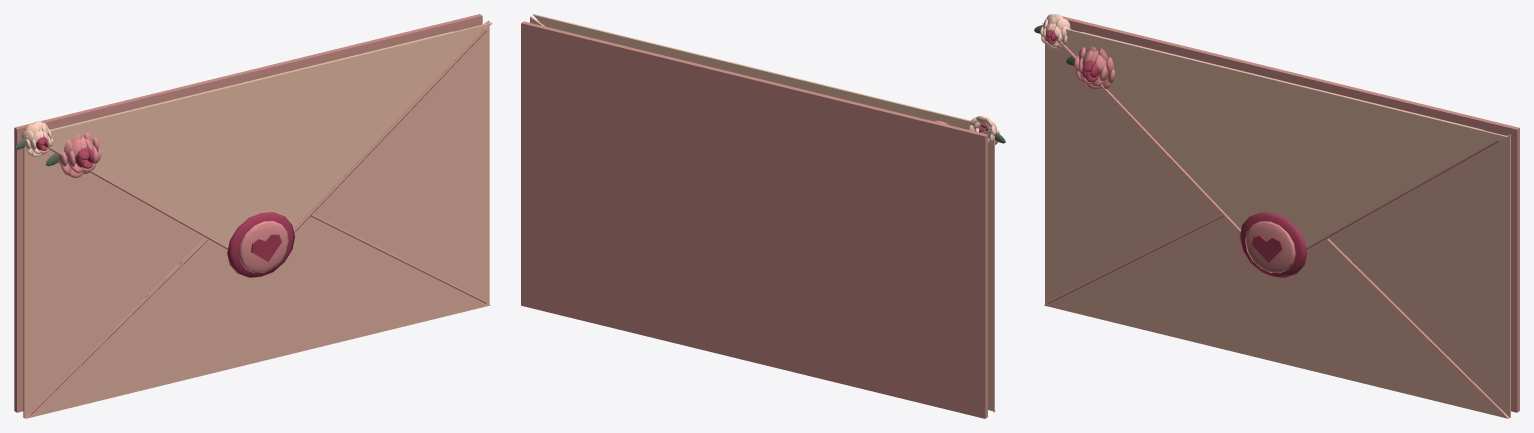
The model's file is envelope.glb.
3 views of the same model, side by side, from view 1: azimuth 30°, elevation 25°; view 2: azimuth 150°, elevation 25°; view 3: azimuth 330°, elevation 25° (orthographic).
Parts seen in each view (by area): view 1: Sealed envelope, EnvelopeFlap, LetterSheet; view 2: Sealed envelope, EnvelopeFlap; view 3: Sealed envelope, EnvelopeFlap, LetterSheet.
Part boxes in pixels (box(x1,y1,x2,y2)): Sealed envelope: box(14, 14, 490, 418); EnvelopeFlap: box(26, 22, 492, 277); LetterSheet: box(50, 31, 453, 371); Sealed envelope: box(521, 16, 1005, 418); EnvelopeFlap: box(533, 14, 997, 130); Sealed envelope: box(1034, 14, 1519, 418); EnvelopeFlap: box(1042, 23, 1507, 277); LetterSheet: box(1081, 31, 1483, 371).
Size of the model in its own units: 3.13 by 1.84 by 0.2408.
